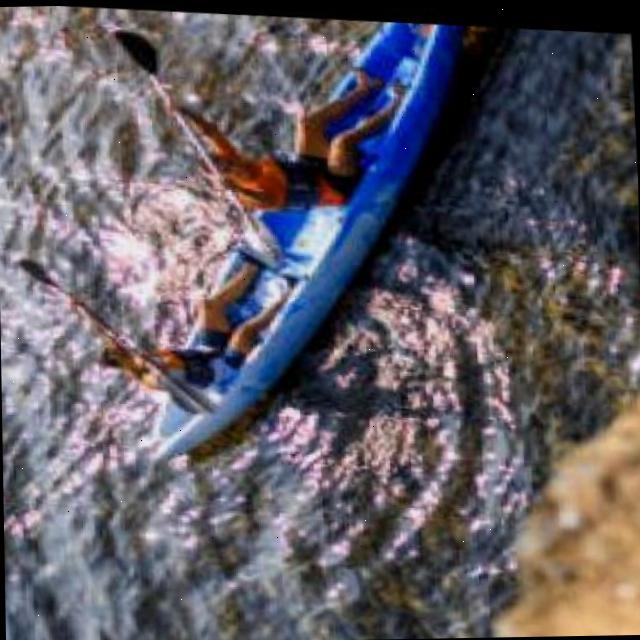kayak: (162, 14, 466, 452)
